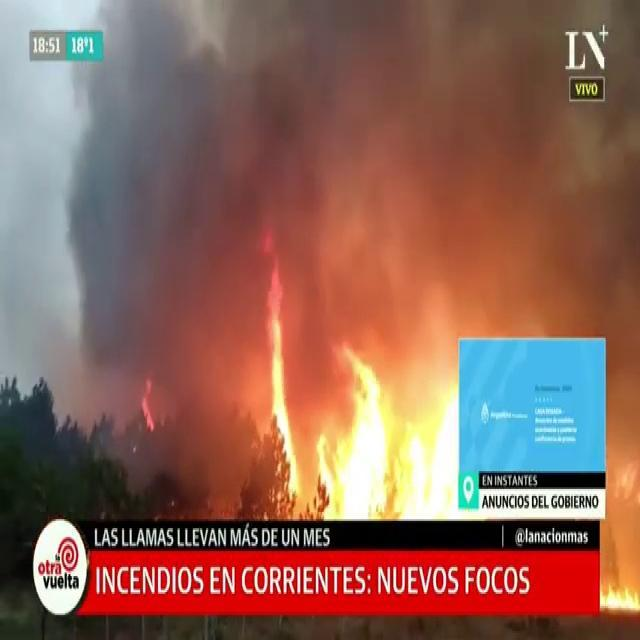Fire: (309, 330, 452, 524), (260, 260, 302, 508), (600, 578, 640, 616), (140, 373, 159, 432)
Smoke: (39, 0, 464, 355), (1, 94, 88, 453)
